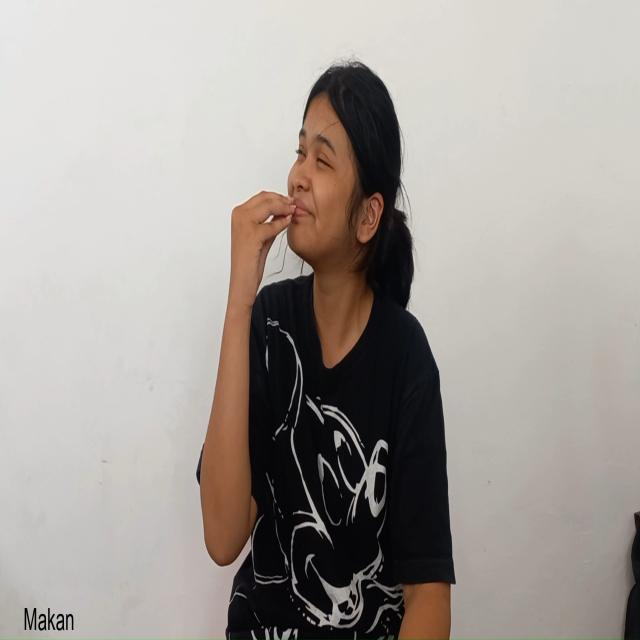Makan -BISINDO-: (220, 54, 415, 408)
